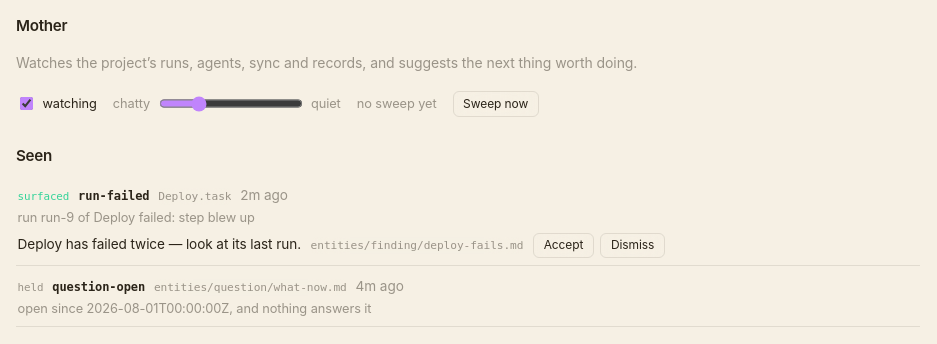
Scenario: records a verdict from the feed and settles the row
Expected: the element "Mother" is shown, left=16, top=16, right=637, bottom=118
Click the button "Dismiss".
click(633, 246)  # box left=600, top=233, right=665, bottom=258
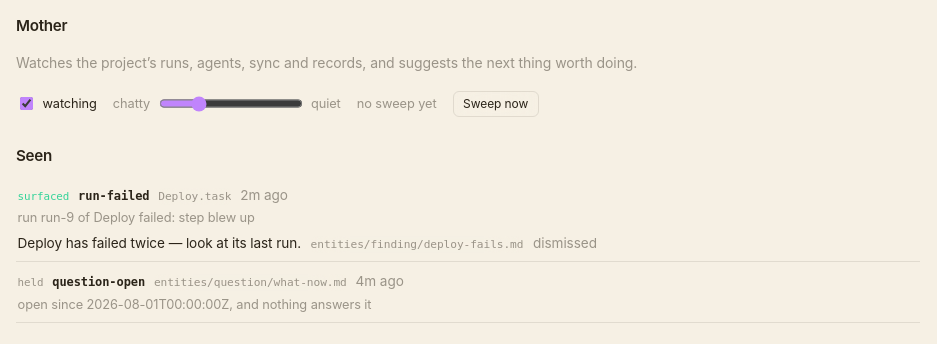
Expected: the list item that starts with "surfaced" shows "dismissed", left=533, top=235, right=597, bottom=251
Expected: the button "Accept" is gone
